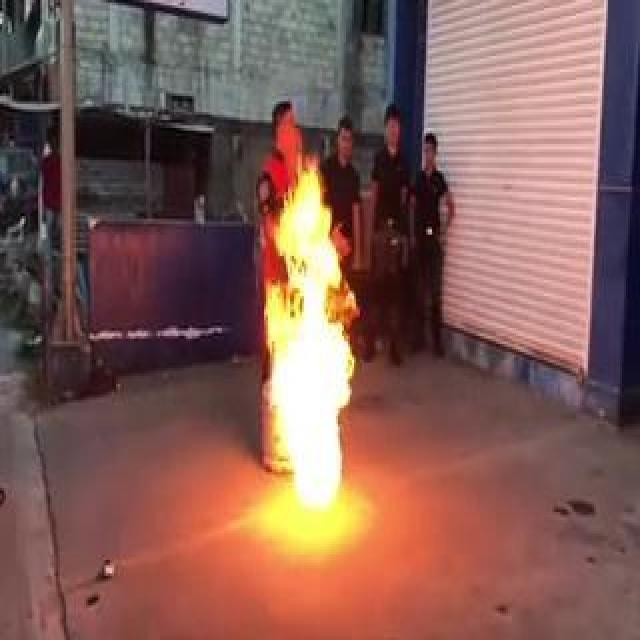Fire: (257, 152, 359, 515)
